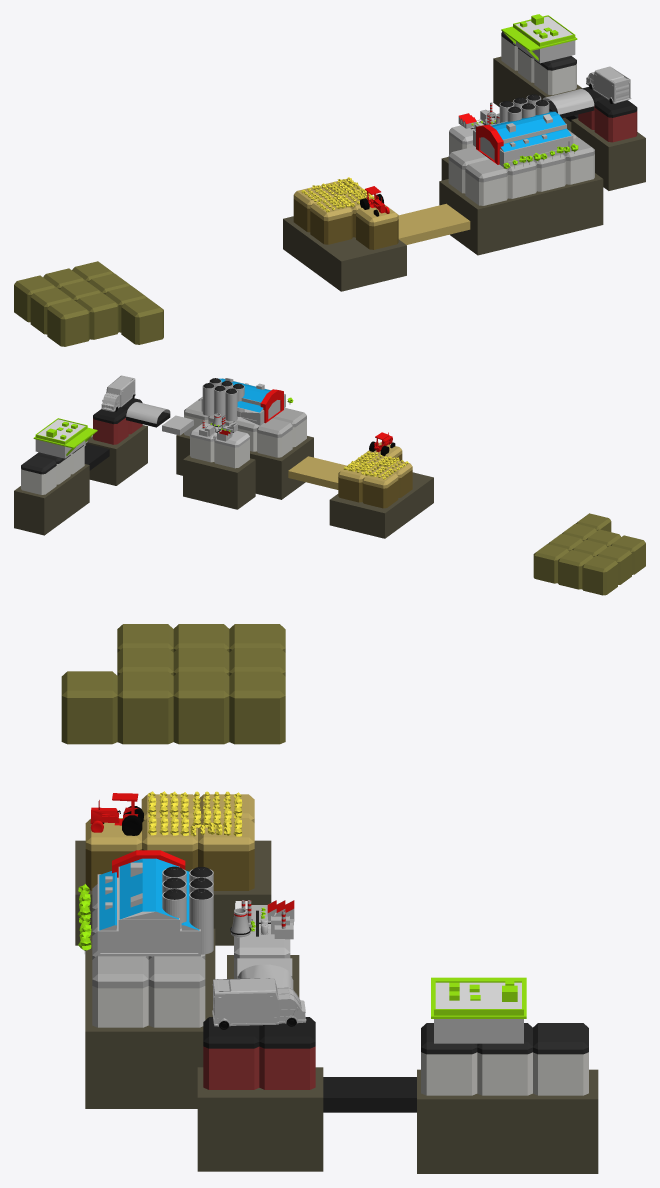
File: tofu2.gltf
The picture shows the model from 3 angles, top to bottom: view 1: azimuth 30°, elevation 25°; view 2: azimuth 150°, elevation 25°; view 3: azimuth 270°, elevation 25°; orthographic projection. The views are drawn at different scales.
Visible parts, largest first — view 1: tofu; view 2: tofu; view 3: tofu.
Boxes of the visible parts, x1,y1,x2,y2 form: tofu: (14, 14, 645, 346); tofu: (14, 375, 645, 595); tofu: (61, 624, 598, 1173).
Bounding box in the file's own units: 20.94 × 3.7 × 9.48.
